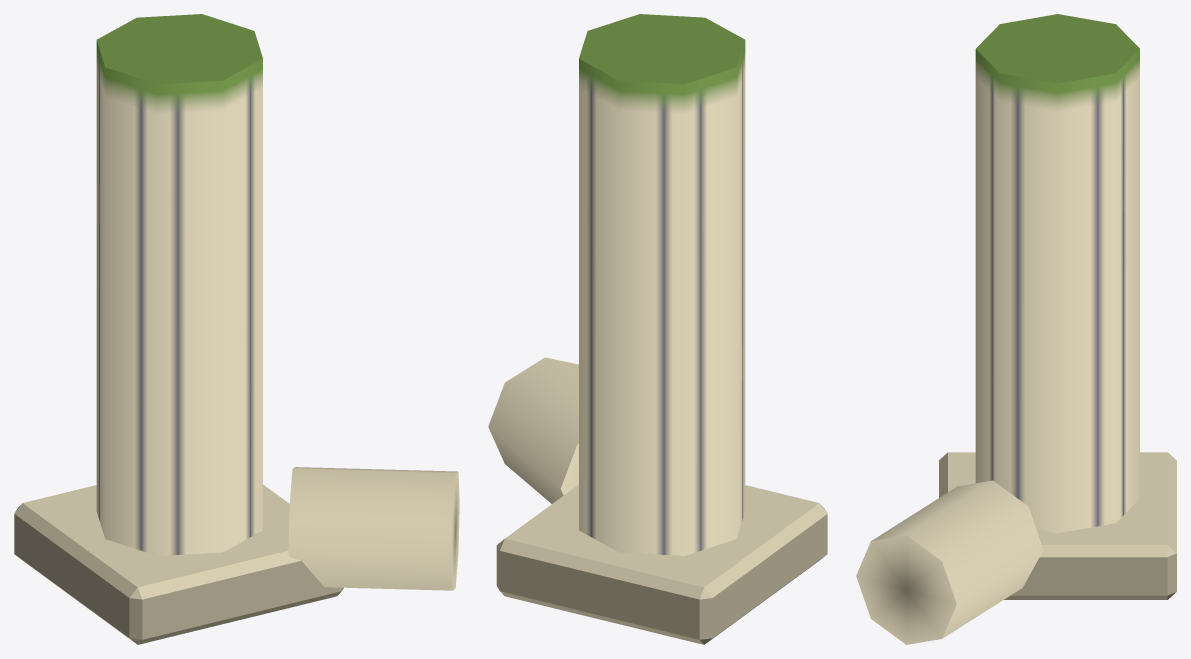
File: prop_column5_b256.glb
3 renders of one model, left to right at view 1: azimuth 30°, elevation 25°; view 2: azimuth 150°, elevation 25°; view 3: azimuth 270°, elevation 25°, orthographic. The views are drawn at different scales.
Parts seen in each view (by area): view 1: prop_column5_b256; view 2: prop_column5_b256; view 3: prop_column5_b256.
Boxes of the visible parts, box(x1,y1,x2,y2) form: prop_column5_b256: box(14, 14, 459, 644); prop_column5_b256: box(488, 14, 827, 644); prop_column5_b256: box(856, 14, 1176, 644).
Size of the model in its own units: 0.7537 by 1.14 by 0.6554.
1 material, 1 textured.
